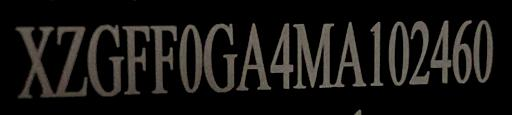letter: (14, 22, 56, 99), (86, 21, 124, 100), (292, 21, 334, 88), (236, 20, 272, 93), (55, 23, 89, 100), (202, 21, 236, 96), (149, 22, 179, 101), (334, 21, 368, 88), (122, 21, 150, 102), (178, 23, 204, 96), (268, 22, 294, 91), (408, 18, 432, 87), (472, 16, 494, 85), (430, 18, 452, 87), (387, 20, 409, 87), (366, 20, 388, 87), (452, 16, 472, 87)
